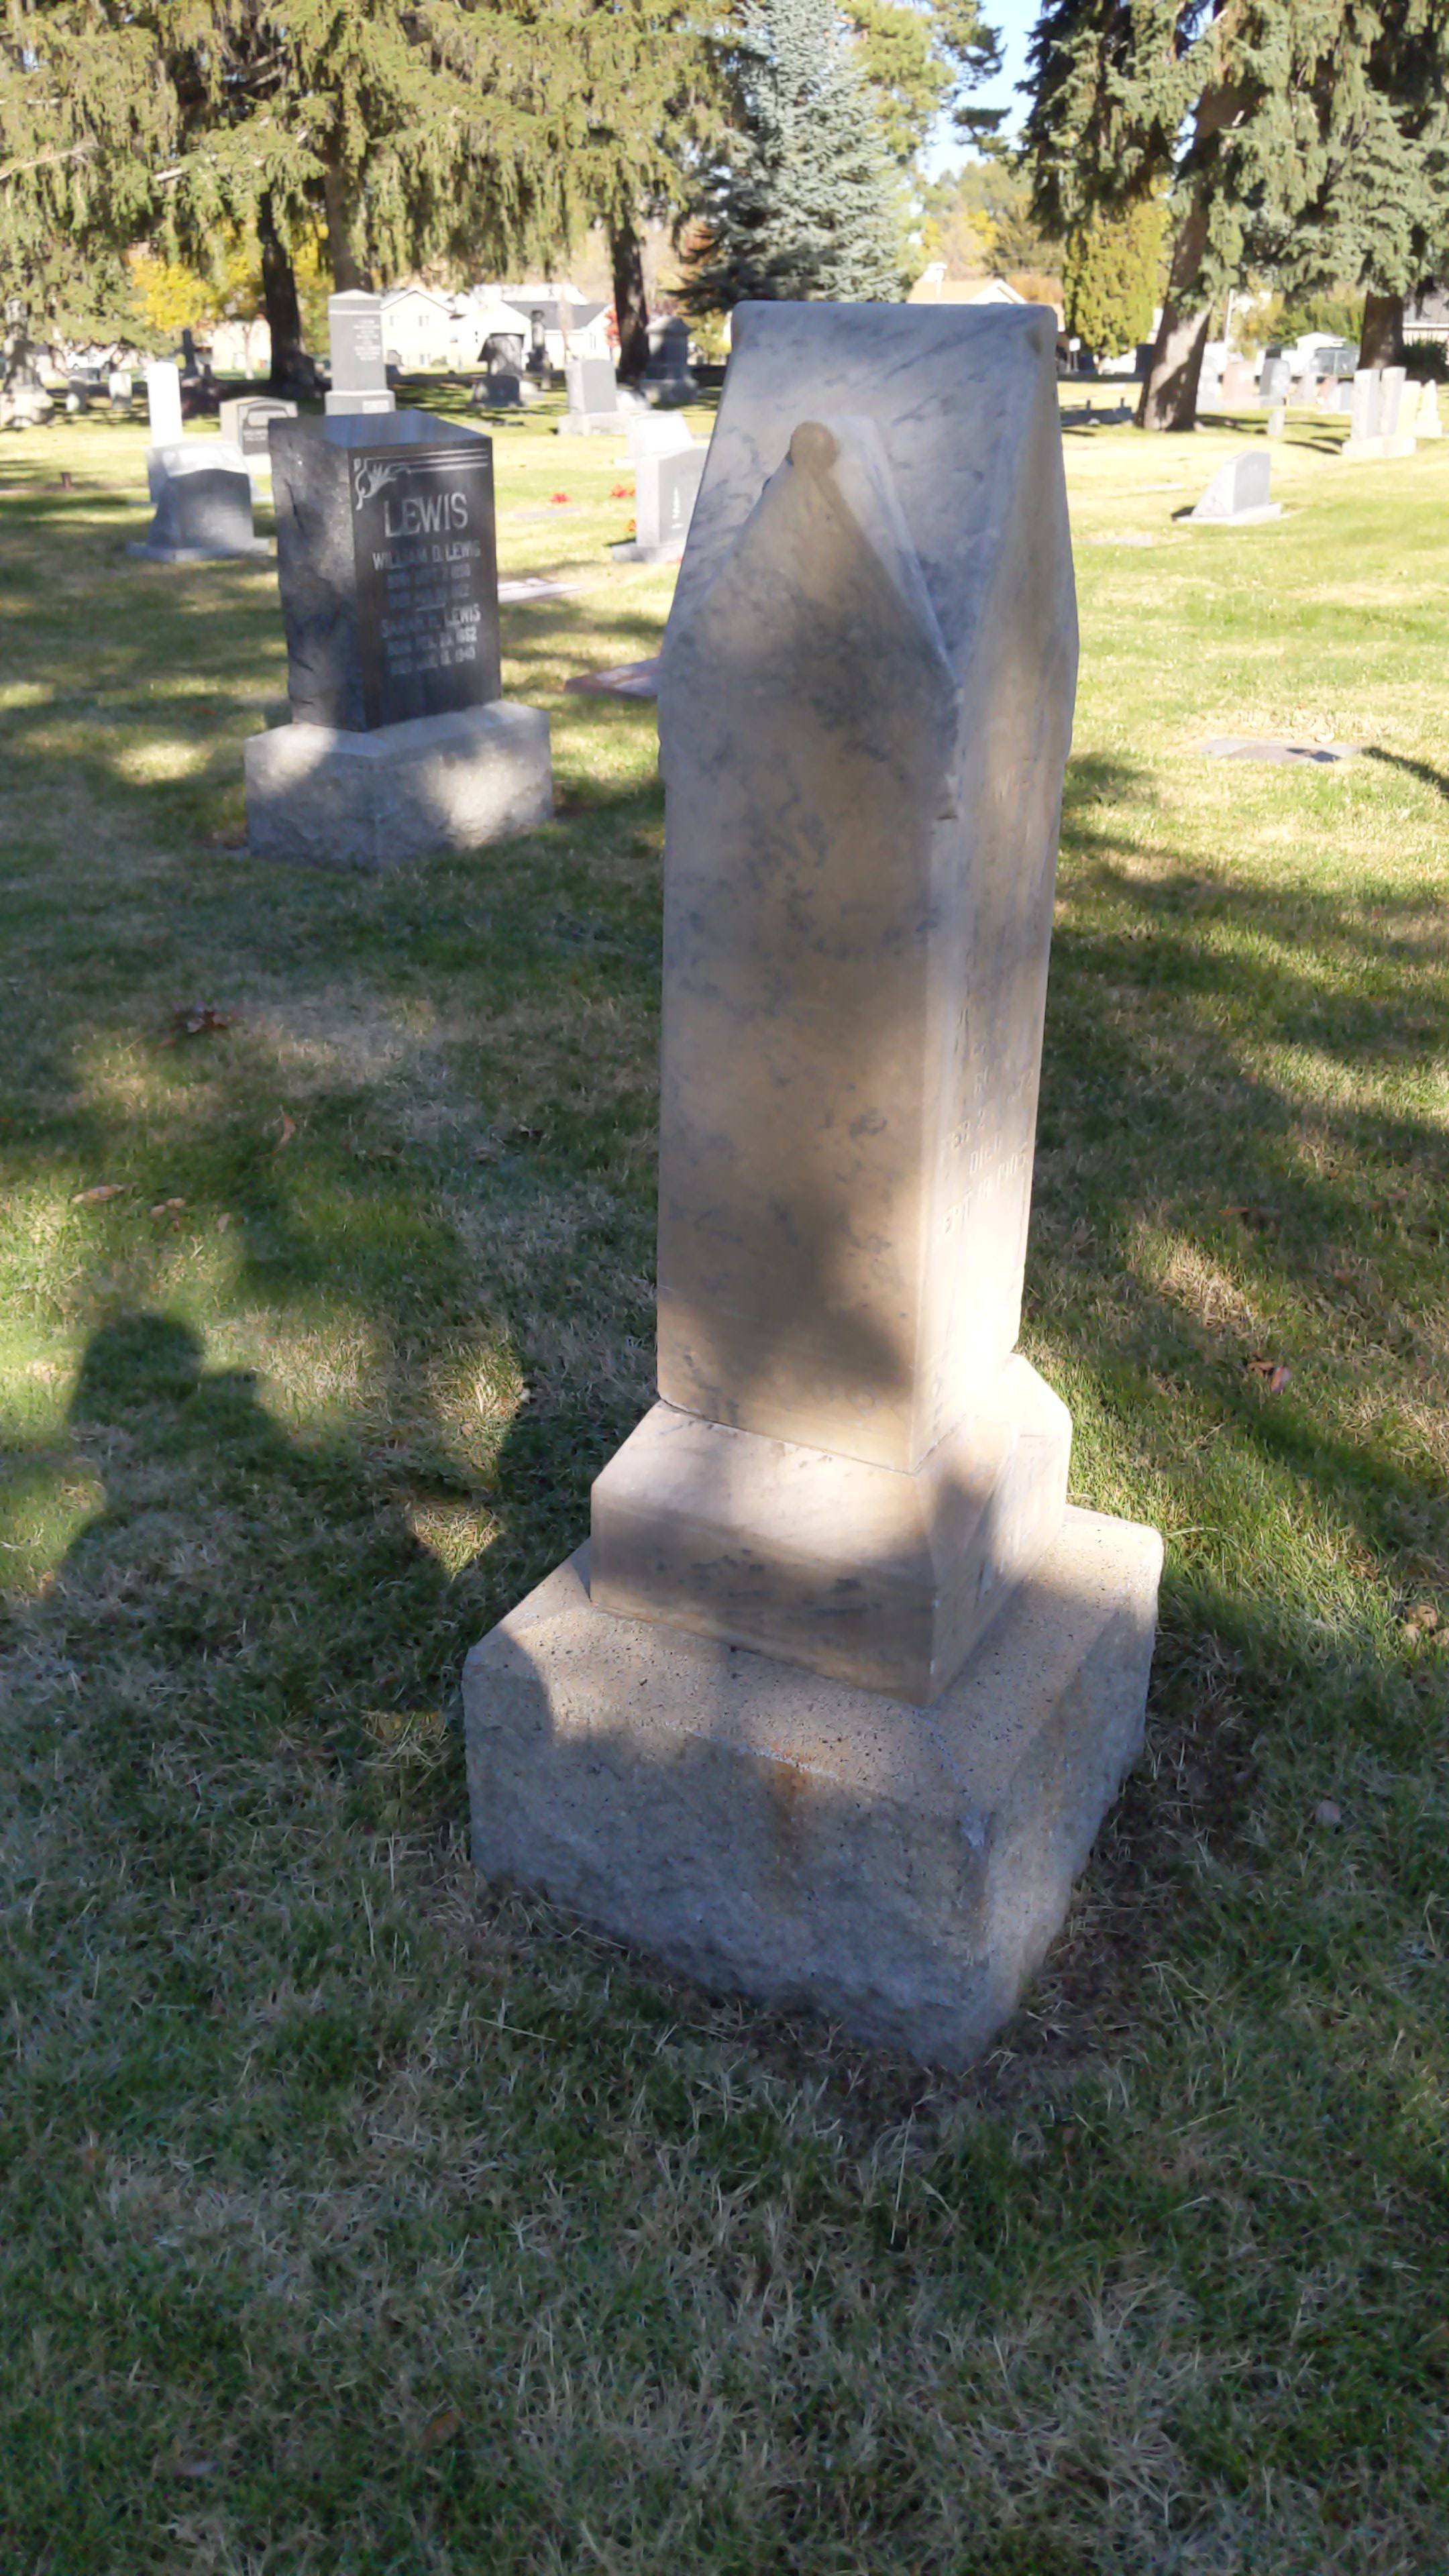obelisk: (596, 288, 1074, 1683)
